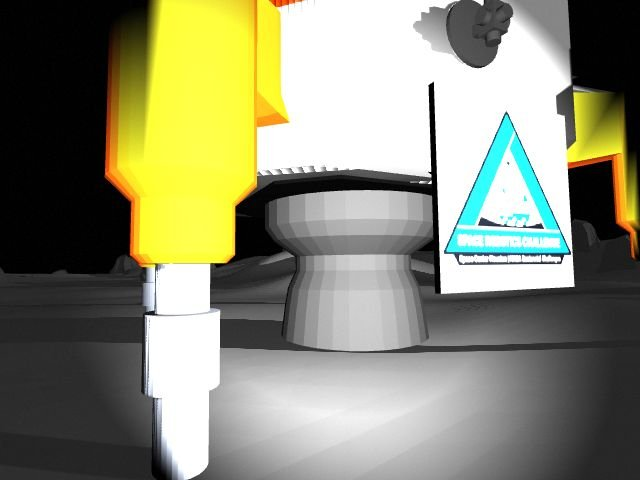basemarker: (444, 111, 572, 265)
